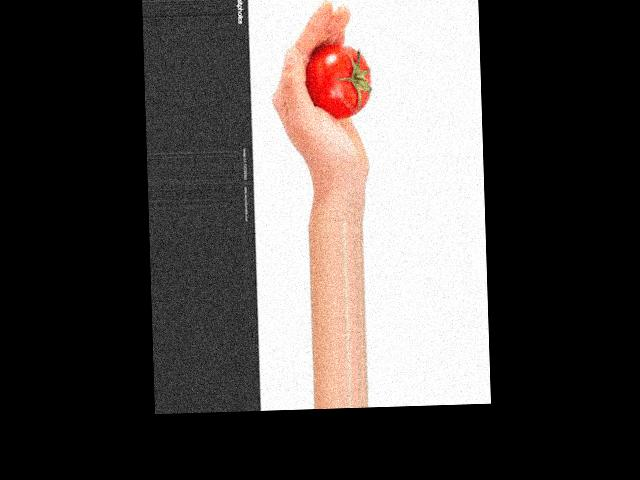tomato: (305, 45, 371, 121)
